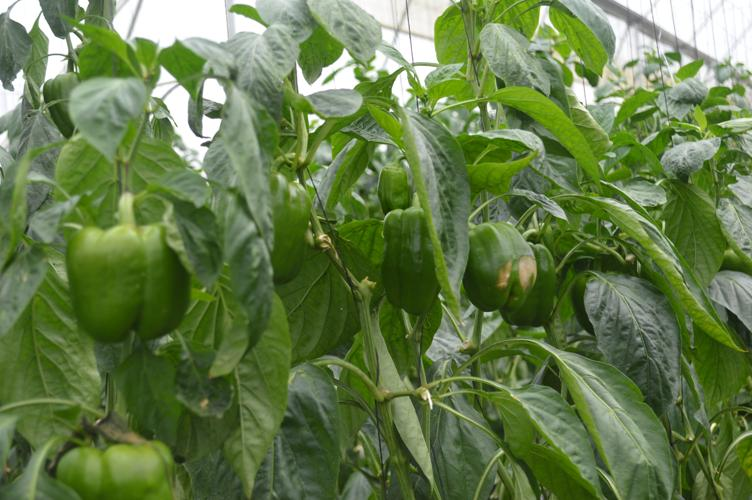BellPepper: (55, 214, 200, 349), (458, 212, 541, 326), (246, 158, 320, 282), (370, 200, 444, 316), (44, 435, 176, 500)
